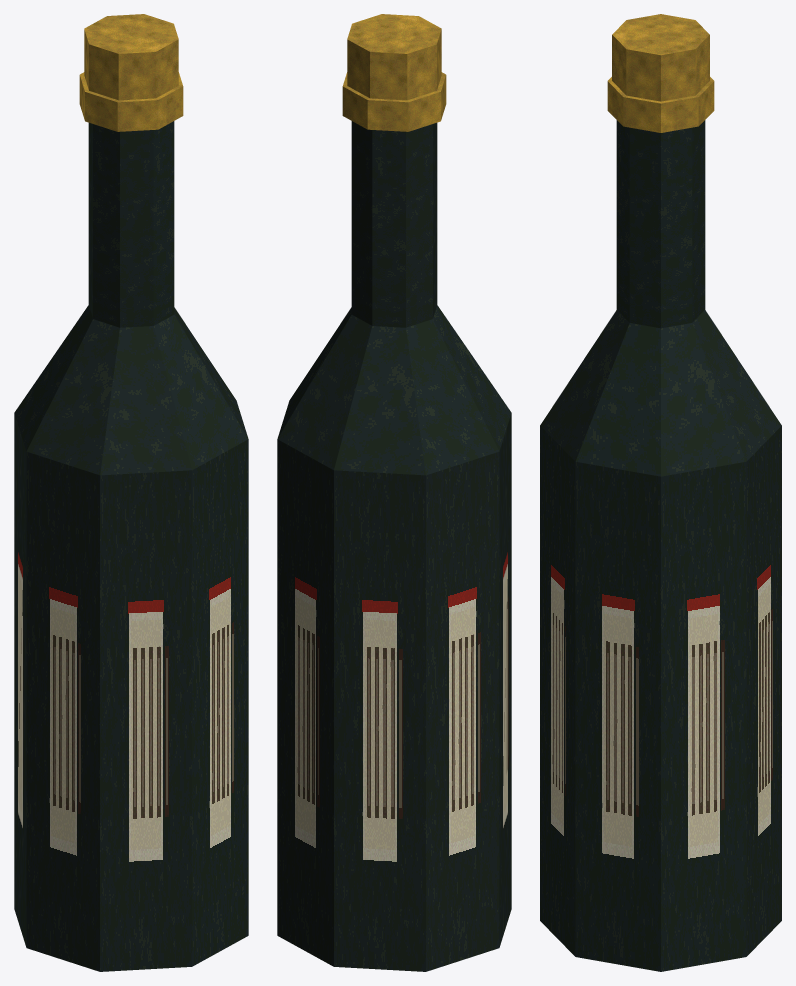
The model's file is sake_bottle.glb.
3 views of the same model, side by side, from view 1: azimuth 30°, elevation 25°; view 2: azimuth 150°, elevation 25°; view 3: azimuth 270°, elevation 25° (orthographic).
Visible parts, largest first — view 1: sake_bottle; view 2: sake_bottle; view 3: sake_bottle.
Part boxes in pixels (<box>): sake_bottle: <box>14,14,248,971</box>; sake_bottle: <box>277,14,511,971</box>; sake_bottle: <box>540,14,781,971</box>.
Size of the model in its own units: 0.104 by 0.4205 by 0.104.
Materials: 2 (2 with a texture image).
